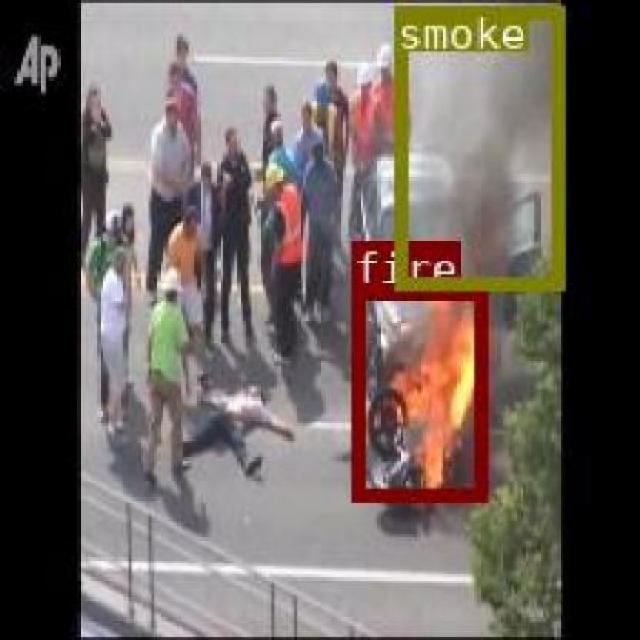Fire: (350, 284, 486, 500)
Smoke: (392, 3, 562, 286)
